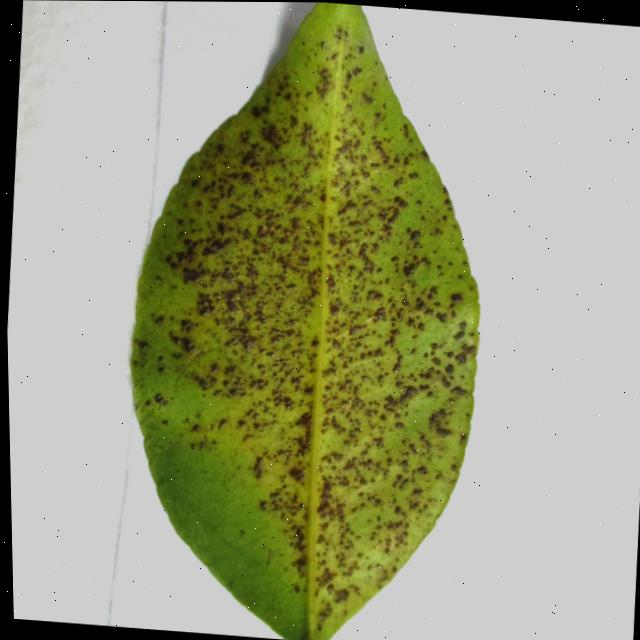melanose: (130, 2, 478, 640)
